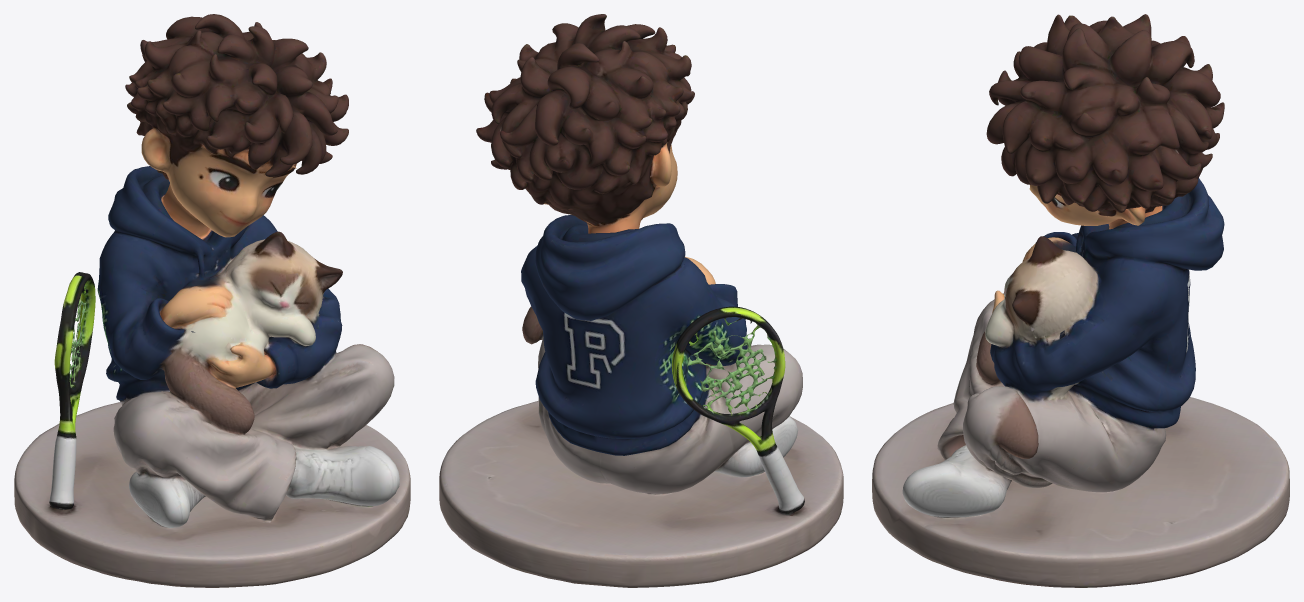
The model's file is cat.glb.
3 renders of one model, left to right at view 1: azimuth 30°, elevation 25°; view 2: azimuth 150°, elevation 25°; view 3: azimuth 270°, elevation 25°, orthographic. The views are drawn at different scales.
Visible parts, largest first — view 1: tripo_node_841a4307-5030-49b5-b47b-95922e0e05fa; view 2: tripo_node_841a4307-5030-49b5-b47b-95922e0e05fa; view 3: tripo_node_841a4307-5030-49b5-b47b-95922e0e05fa.
Part boxes in pixels (left/top/right/bottom): tripo_node_841a4307-5030-49b5-b47b-95922e0e05fa: left=14, top=14, right=410, bottom=587; tripo_node_841a4307-5030-49b5-b47b-95922e0e05fa: left=439, top=14, right=843, bottom=587; tripo_node_841a4307-5030-49b5-b47b-95922e0e05fa: left=872, top=14, right=1289, bottom=587.
Size of the model in its own units: 0.7475 by 0.9775 by 0.7511.
1 material, 1 textured.
